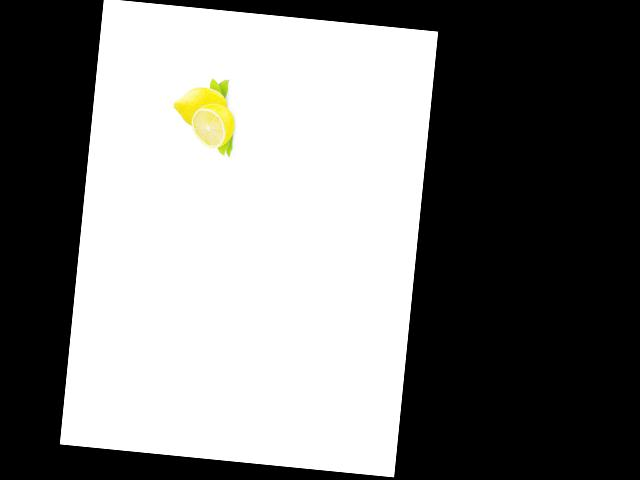lemon: (170, 79, 234, 131)
